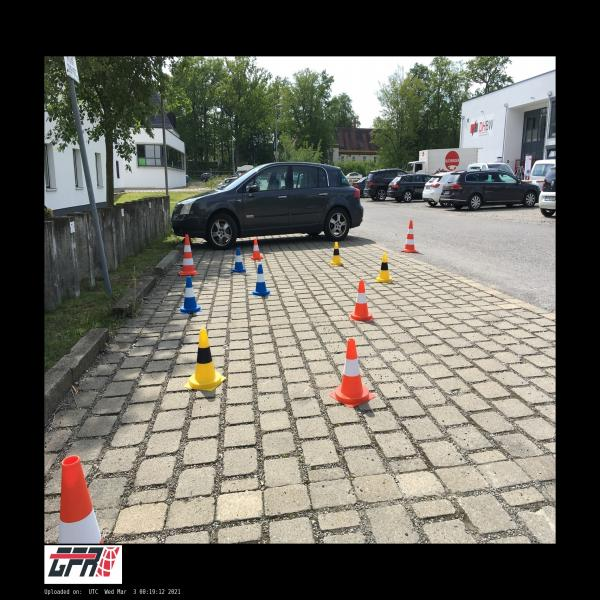blue_cone: (178, 277, 202, 314), (251, 264, 272, 296), (231, 247, 247, 273)
large_orange_cone: (59, 455, 102, 544), (179, 234, 198, 275), (401, 220, 419, 252)
orange_cone: (329, 338, 375, 408), (351, 280, 372, 321), (251, 238, 263, 260)
yellow_cone: (184, 329, 226, 391), (375, 253, 394, 283), (330, 241, 344, 266)
